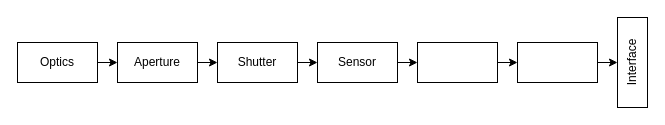
The diagram is 665 pixels wide and 125 high, and some of its shapes have lost their labels. The shapes that lost their labels are listed below. From the top down, each one's centre as x and y in pixels, then its label:
the point at 457,62: A/D converter
the point at 557,62: Post-processing
